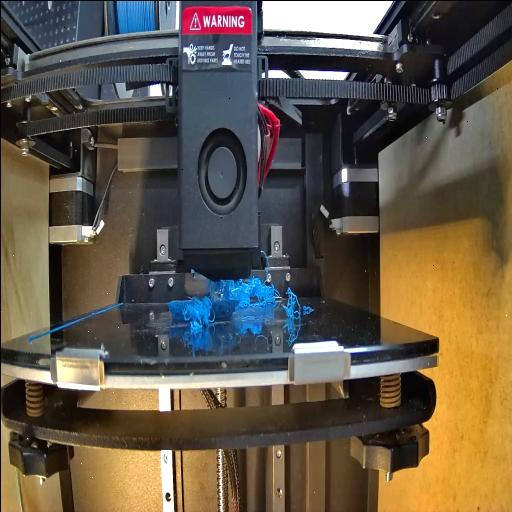spaghetti: (206, 278, 276, 308), (176, 292, 216, 336), (281, 293, 305, 323)
